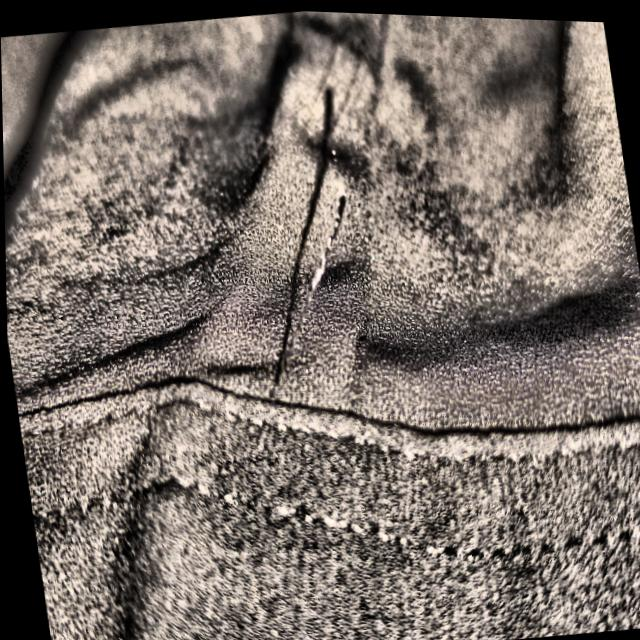Stitch: (255, 156, 377, 375)
